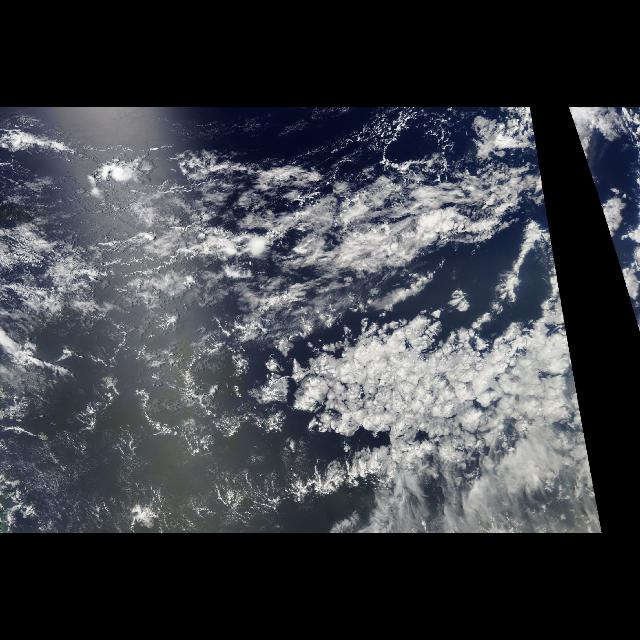Flower: (136, 310, 554, 496)
Sugar: (5, 368, 328, 532)
